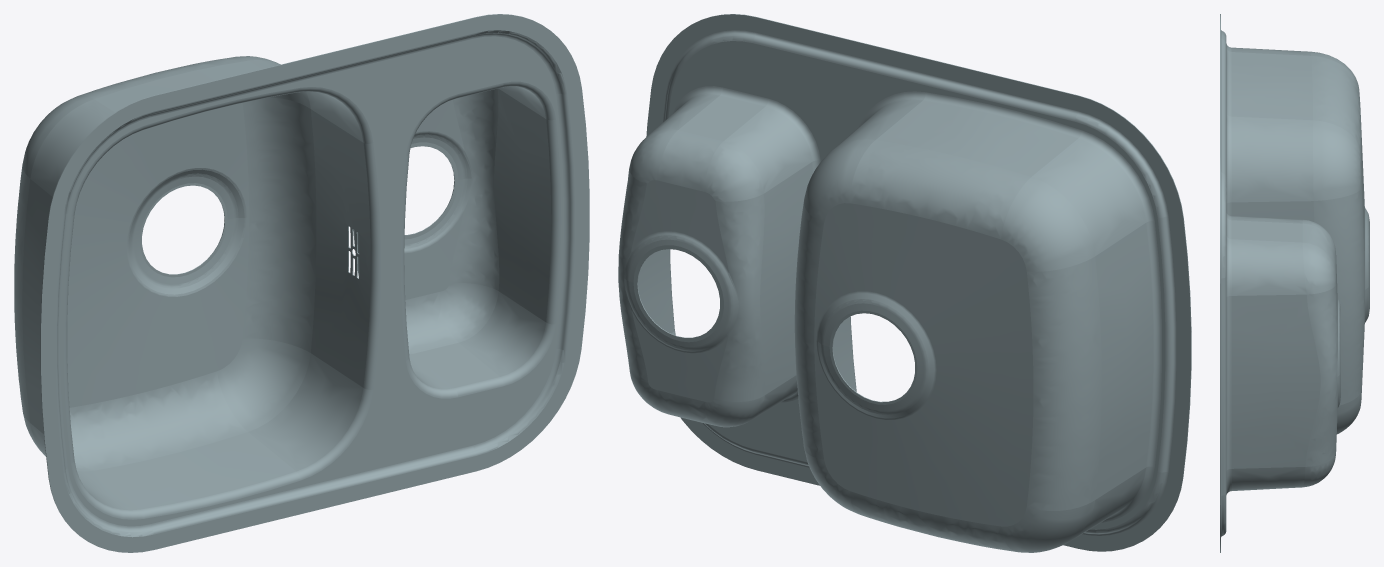
Rendered from R16633_S_SST_CAD_V2202.gltf.
The picture shows the model from 3 angles, left to right: view 1: azimuth 30°, elevation 25°; view 2: azimuth 150°, elevation 25°; view 3: azimuth 270°, elevation 25°; orthographic projection. The views are drawn at different scales.
Parts seen in each view (by area): view 1: empty_2; view 2: empty_2; view 3: empty_2.
Boxes of the visible parts, x1,y1,x2,y2 form: empty_2: (14, 14, 589, 552); empty_2: (618, 14, 1191, 552); empty_2: (1220, 14, 1369, 552).
Bounding box in the file's own units: 0.5947 × 0.47 × 0.1655.
